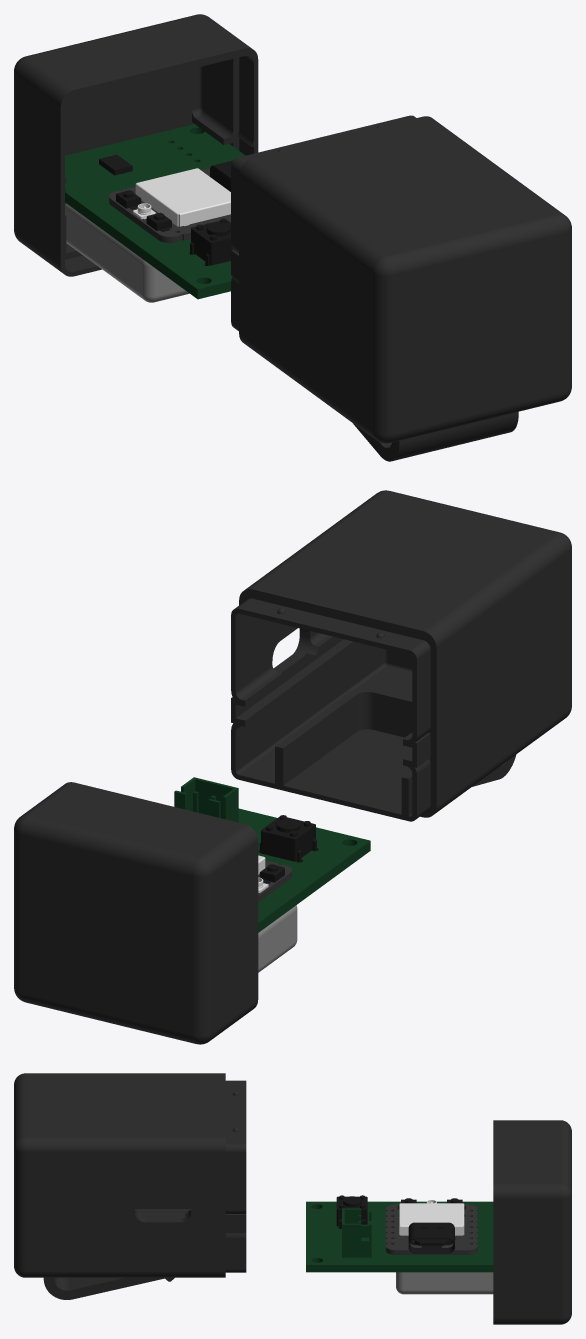
The model's file is imu-wearable-mat.glb.
3 views of the same model, one above another, from view 1: azimuth 30°, elevation 25°; view 2: azimuth 150°, elevation 25°; view 3: azimuth 270°, elevation 25° (orthographic). The views are drawn at different scales.
Parts seen in each view (by area): view 1: pla_matte#2b2b2b, pcb_soldermask#0d3b1e, pla_silk#8a8a8a, steel_polished, pla_matte#151515, pla_matte#333333; view 2: pla_matte#2b2b2b, pcb_soldermask#0d3b1e, pla_matte#151515, pla_silk#8a8a8a; view 3: pla_matte#2b2b2b, pcb_soldermask#0d3b1e, pla_matte#151515, pla_silk#8a8a8a, pla_matte#333333, steel_polished.
Boxes of the visible parts, bbox=[...] form: pla_matte#2b2b2b: bbox=[14, 14, 571, 461]; pcb_soldermask#0d3b1e: bbox=[65, 124, 245, 299]; pla_silk#8a8a8a: bbox=[65, 203, 189, 302]; steel_polished: bbox=[133, 168, 230, 226]; pla_matte#151515: bbox=[99, 154, 233, 265]; pla_matte#333333: bbox=[109, 168, 230, 243]; pla_matte#2b2b2b: bbox=[14, 490, 571, 1044]; pcb_soldermask#0d3b1e: bbox=[174, 777, 370, 932]; pla_matte#151515: bbox=[259, 815, 316, 883]; pla_silk#8a8a8a: bbox=[258, 905, 297, 972]; pla_matte#2b2b2b: bbox=[14, 1073, 571, 1324]; pcb_soldermask#0d3b1e: bbox=[306, 1201, 493, 1272]; pla_matte#151515: bbox=[336, 1195, 465, 1253]; pla_silk#8a8a8a: bbox=[396, 1272, 493, 1294]; pla_matte#333333: bbox=[385, 1204, 477, 1254]; steel_polished: bbox=[399, 1200, 464, 1235].
Size of the model in its own units: 0.0331 by 0.0399 by 0.108.
